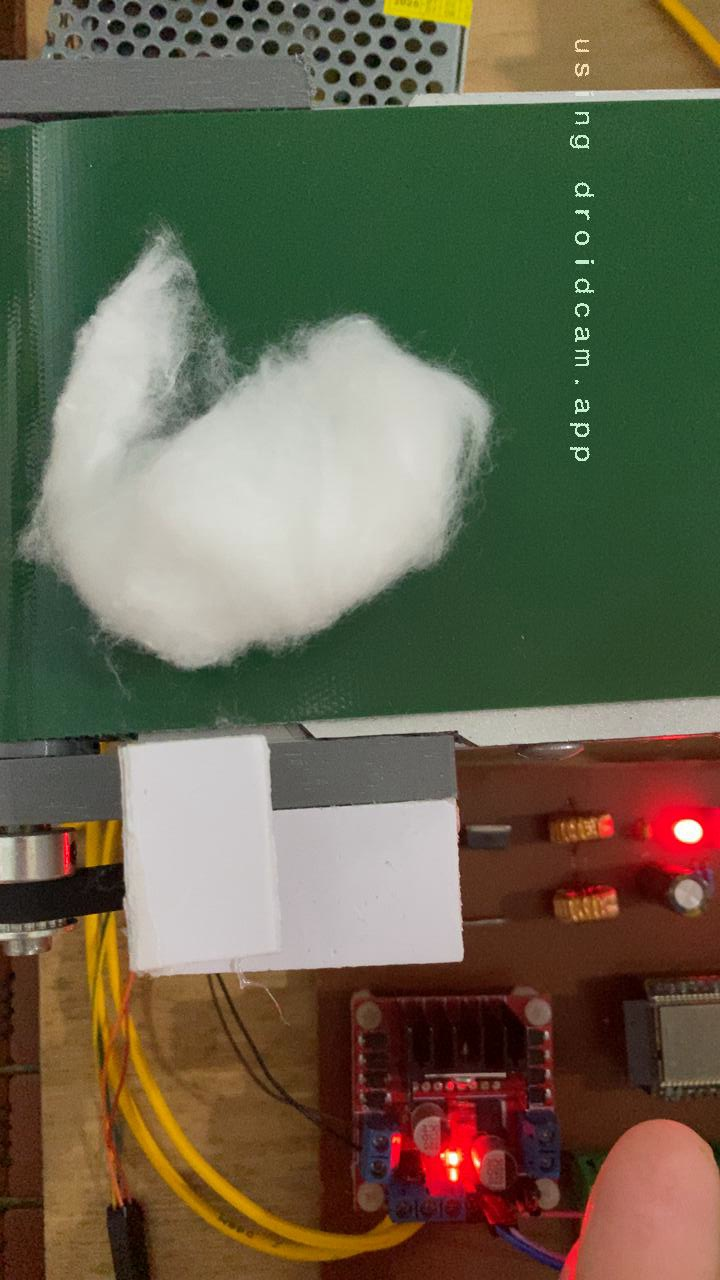cotton: (11, 228, 499, 678)
